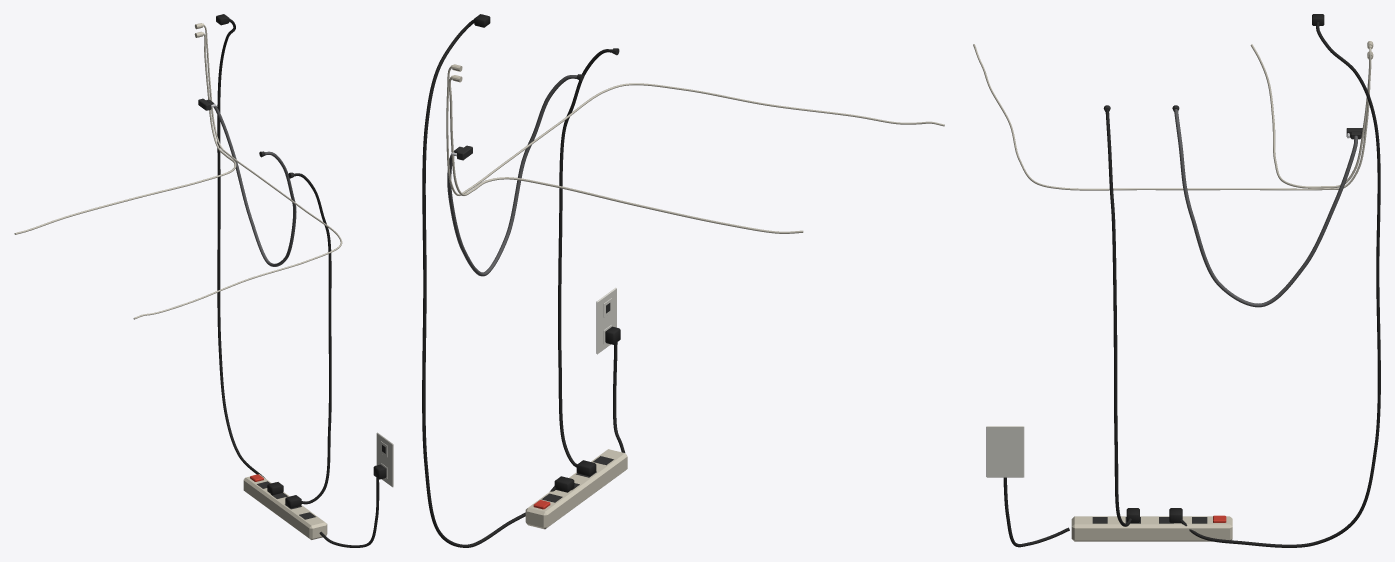
File: SM_ComputerCables.fbx
3 renders of one model, left to right at view 1: azimuth 30°, elevation 25°; view 2: azimuth 150°, elevation 25°; view 3: azimuth 270°, elevation 25°, orthographic. The views are drawn at different scales.
Visible parts, largest first — view 1: SM_ComputerCables; view 2: SM_ComputerCables; view 3: SM_ComputerCables.
Part boxes in pixels (left/top/right/bottom): SM_ComputerCables: left=14, top=14, right=393, bottom=547; SM_ComputerCables: left=422, top=14, right=944, bottom=547; SM_ComputerCables: left=973, top=14, right=1380, bottom=547.
Size of the model in its own units: 76.78 by 122 by 86.08.
